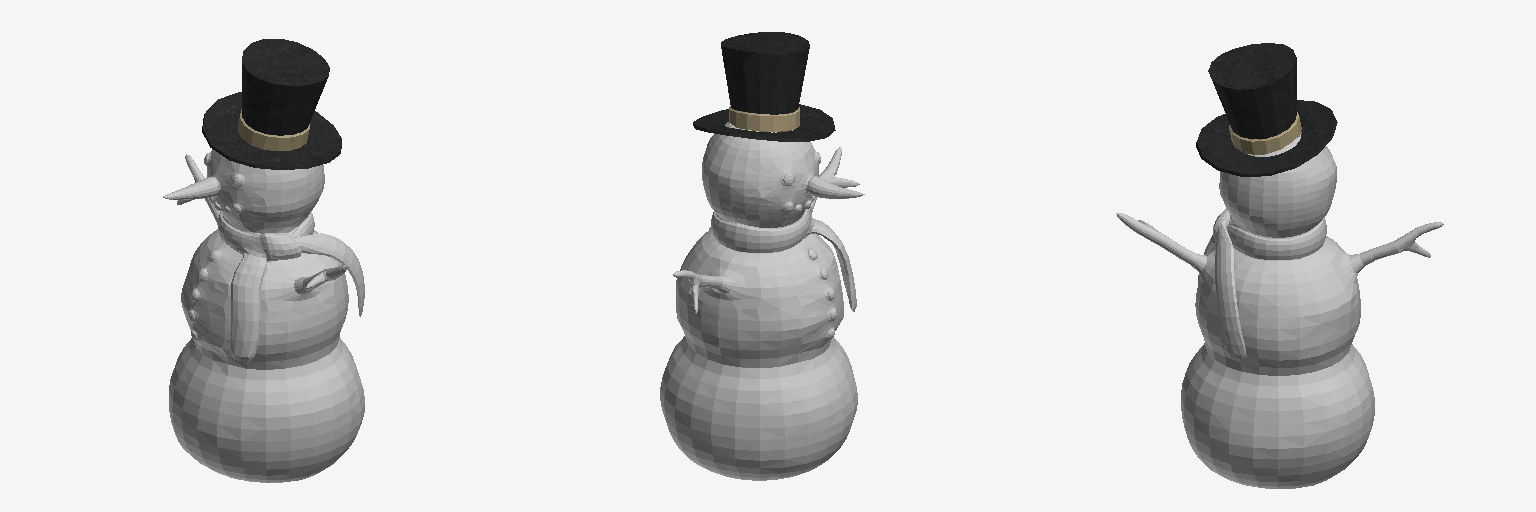
The picture shows the model from 3 angles: view 1: azimuth 30°, elevation 25°; view 2: azimuth 150°, elevation 25°; view 3: azimuth 270°, elevation 25°; orthographic projection.
Visible parts, largest first — view 1: snowman:snowmanmesh_snowman:snowmanmat1_0, snowmanhat:snowmanhatmesh_snowmanhat:snowmanhatmat1_0; view 2: snowman:snowmanmesh_snowman:snowmanmat1_0, snowmanhat:snowmanhatmesh_snowmanhat:snowmanhatmat1_0; view 3: snowman:snowmanmesh_snowman:snowmanmat1_0, snowmanhat:snowmanhatmesh_snowmanhat:snowmanhatmat1_0.
Boxes of the visible parts, <box> form: snowman:snowmanmesh_snowman:snowmanmat1_0: <box>163,149,364,482</box>; snowmanhat:snowmanhatmesh_snowmanhat:snowmanhatmat1_0: <box>202,39,341,169</box>; snowman:snowmanmesh_snowman:snowmanmat1_0: <box>660,122,864,480</box>; snowmanhat:snowmanhatmesh_snowmanhat:snowmanhatmat1_0: <box>693,32,835,141</box>; snowman:snowmanmesh_snowman:snowmanmat1_0: <box>1116,132,1443,488</box>; snowmanhat:snowmanhatmesh_snowmanhat:snowmanhatmat1_0: <box>1196,43,1337,176</box>.
Bounding box in the file's own units: 2.19 × 4.54 × 3.25.
Materials: 2 (1 with a texture image).